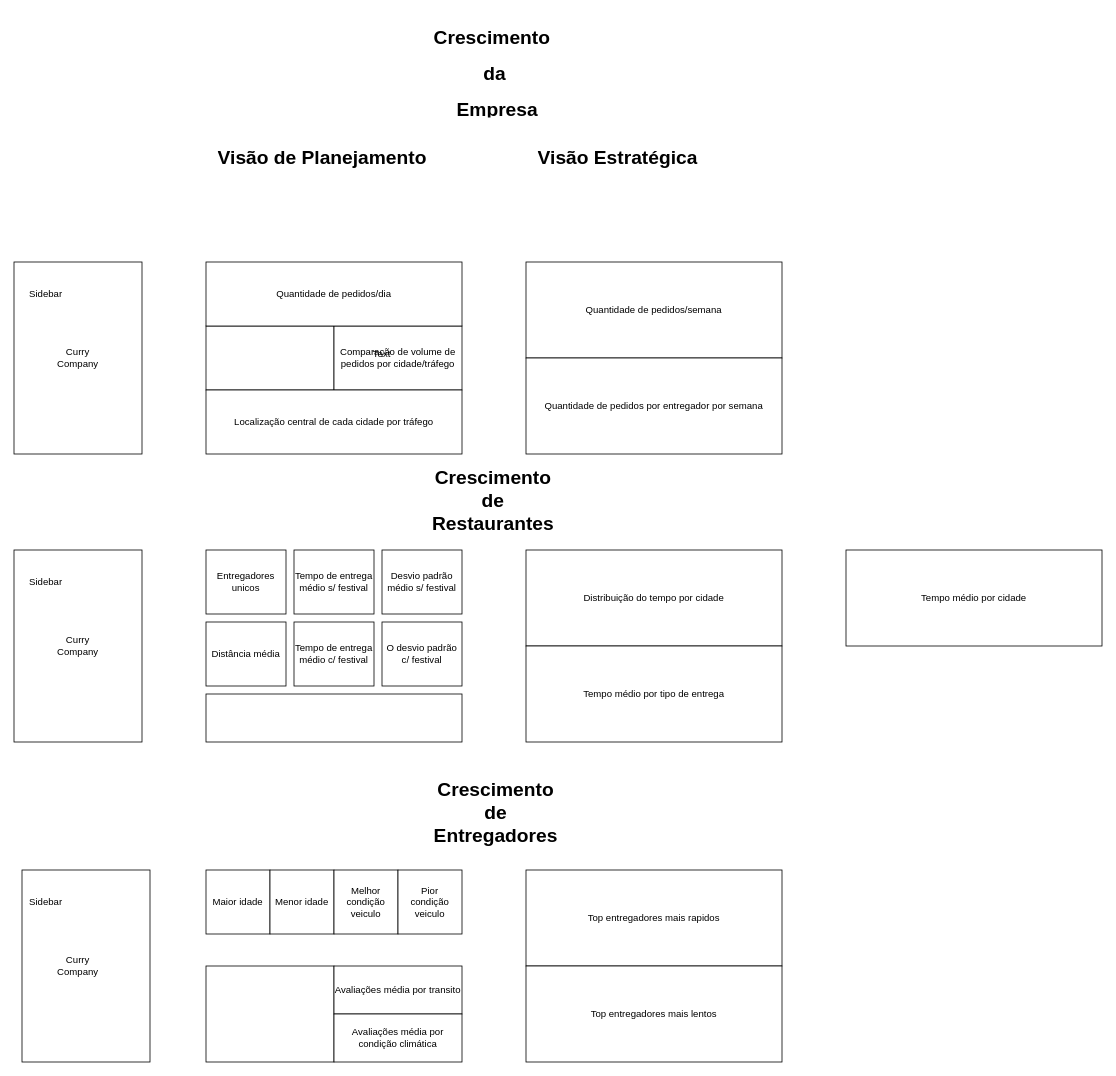
Some shapes in this 1116 by 1076 pixel diagram are drawn without their labels. The shapes that lost their labels are listed below. From the top down, each one's centre as x and y in pixels, then its label:
At [269,357]: "Distribuição de pedidos por tipo de tráfego".
At [333,717]: "Distribuição da distancia médao por cidade".
At [269,1013]: "Avaliações média por entregador".
